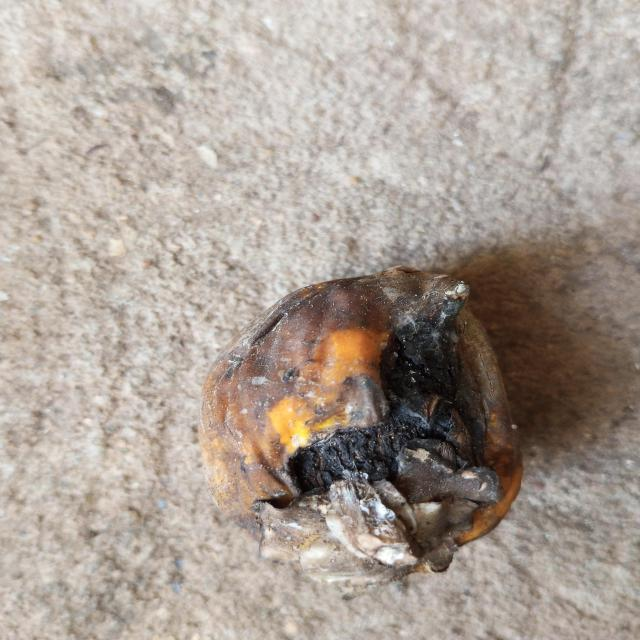damaged: (198, 268, 524, 578)
